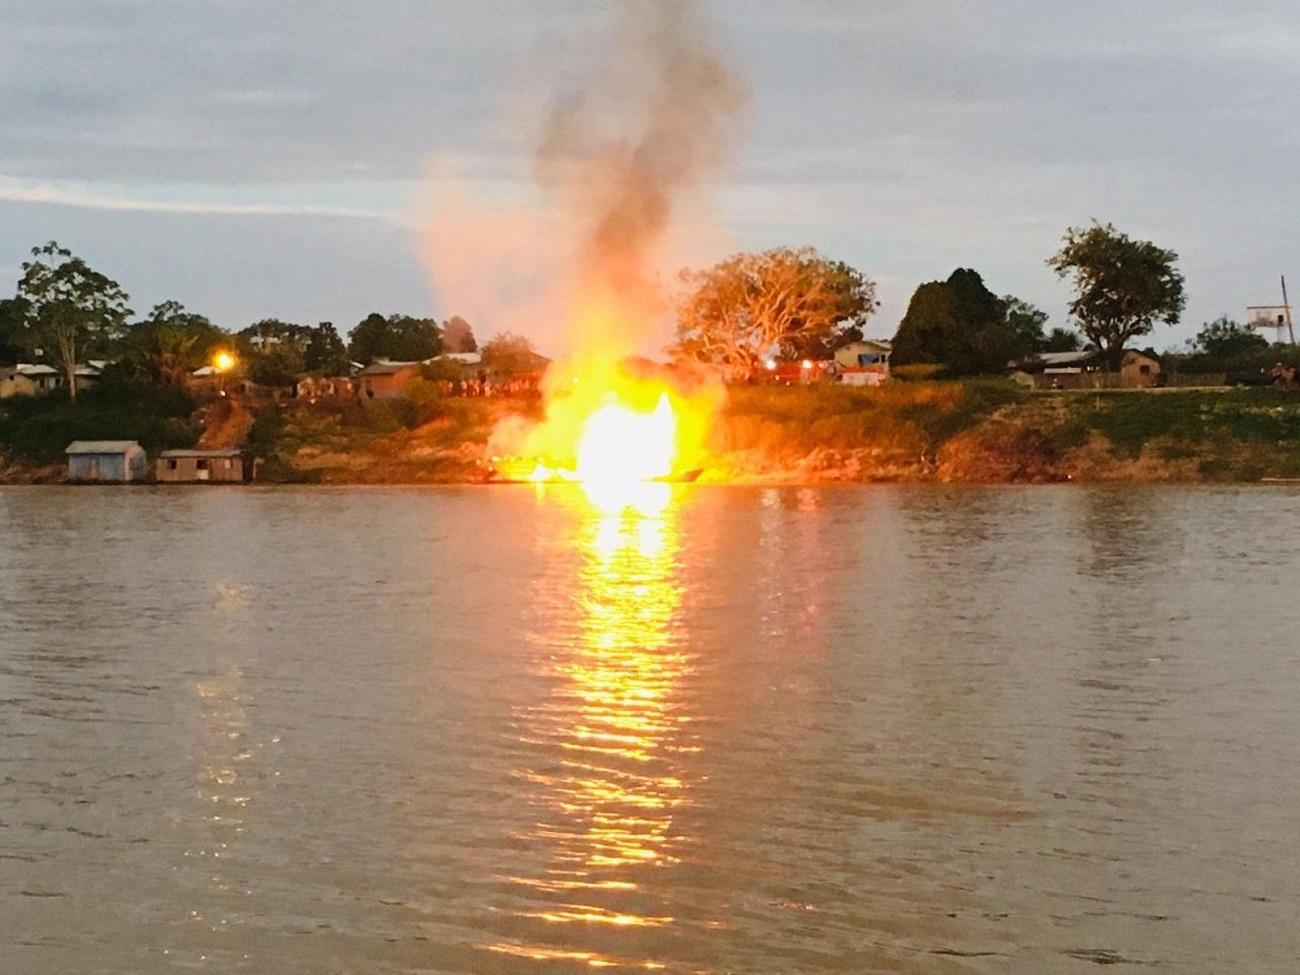Fire: (514, 382, 695, 485)
